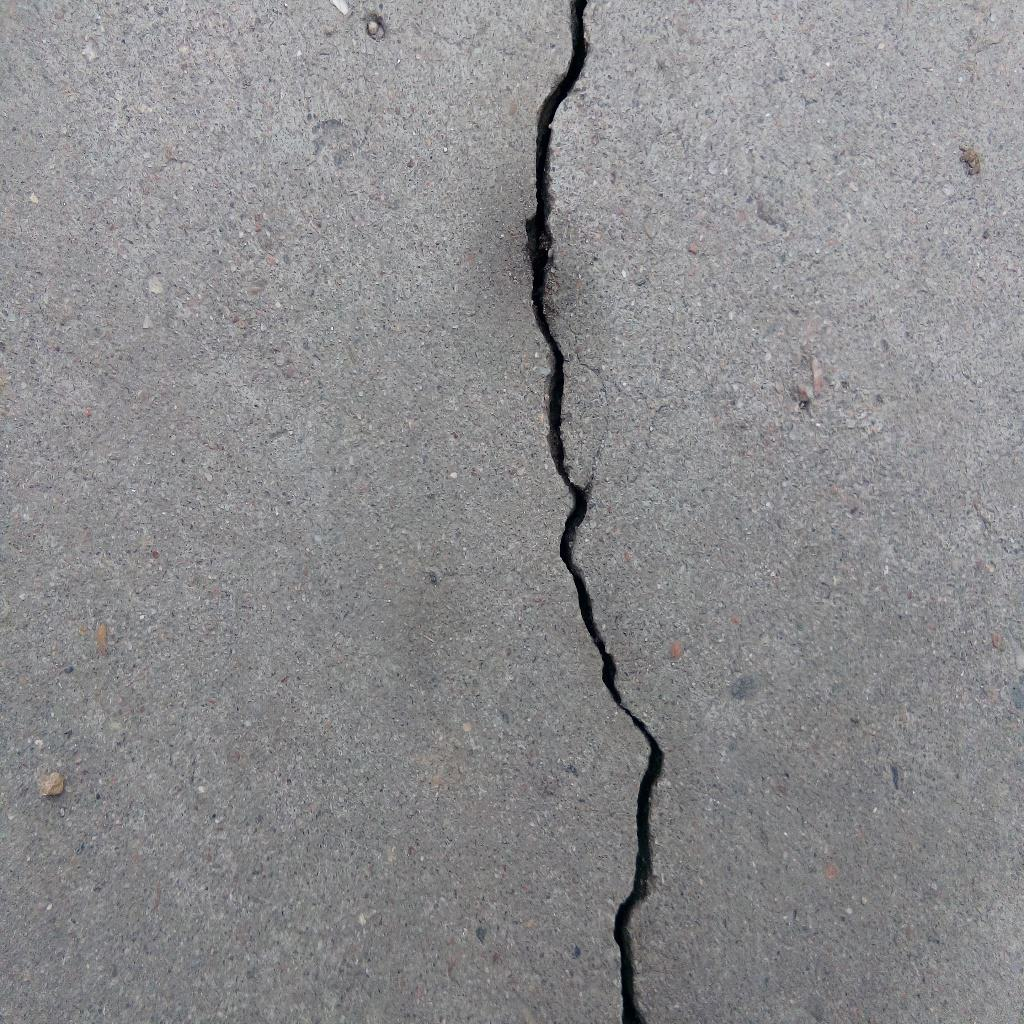Crack: (521, 1, 665, 1024)
